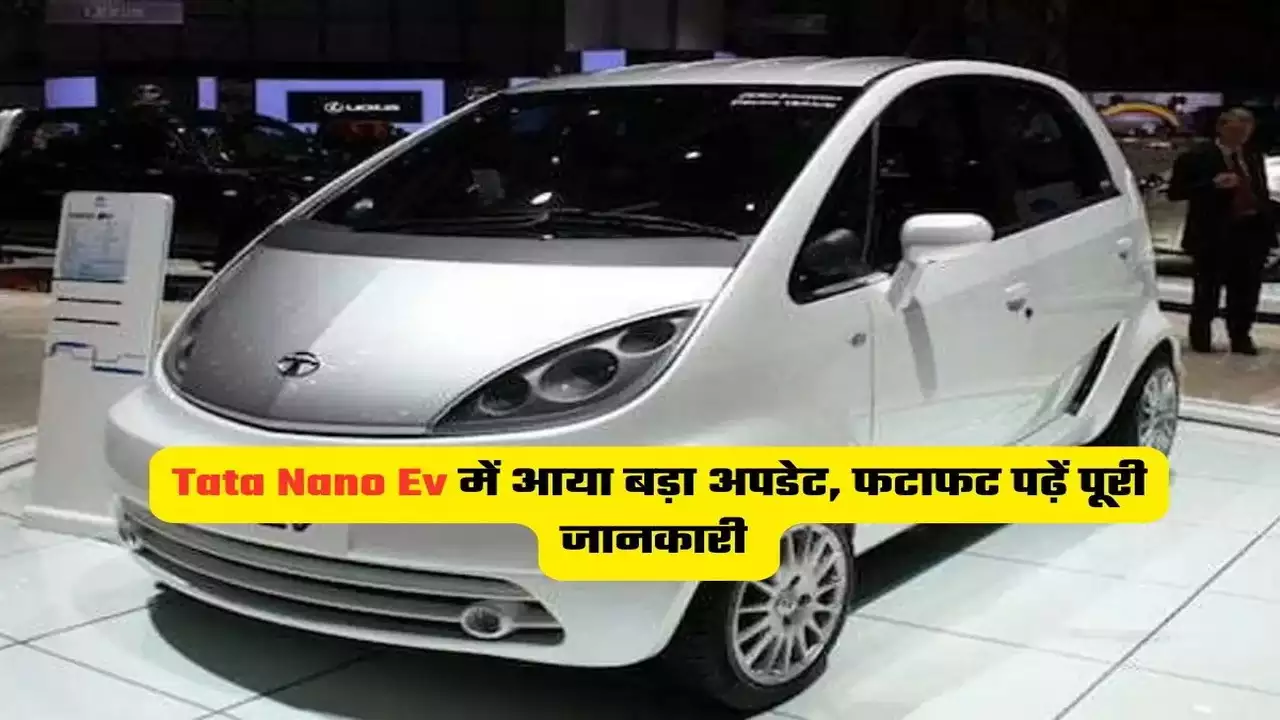Nano: (100, 57, 1178, 709)
